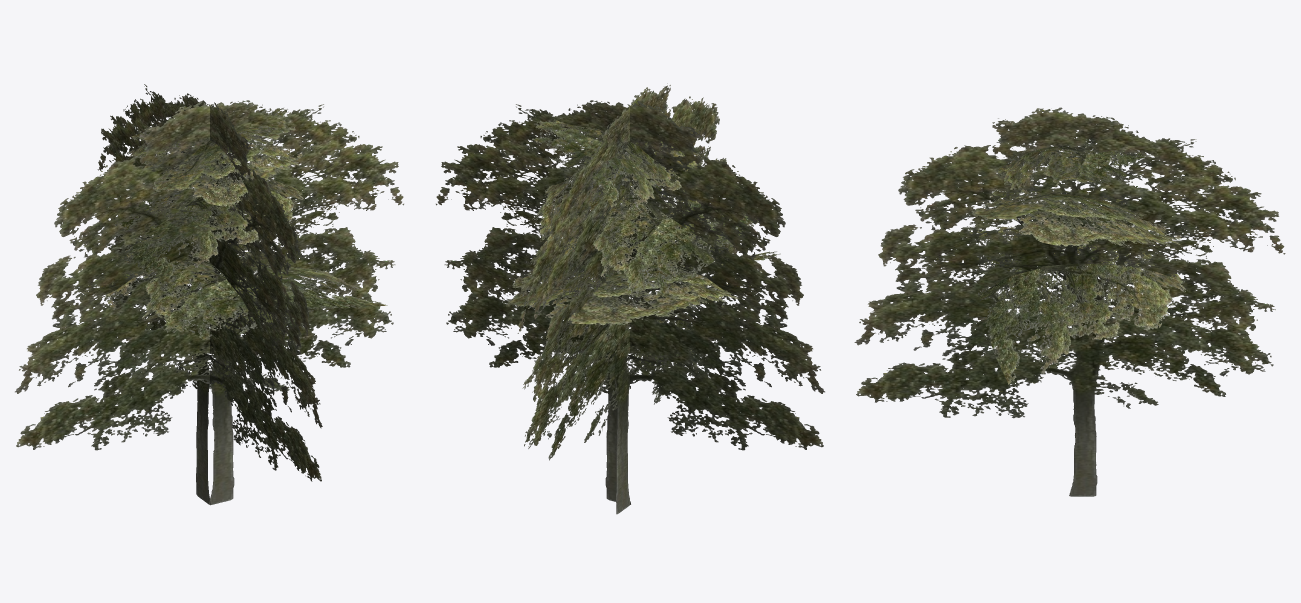
The model's file is tree-light-green-canopy.glb.
The picture shows the model from 3 angles, left to right: view 1: azimuth 30°, elevation 25°; view 2: azimuth 150°, elevation 25°; view 3: azimuth 270°, elevation 25°; orthographic projection. The views are drawn at different scales.
Visible parts, largest first — view 1: tree-light-green-canopy; view 2: tree-light-green-canopy; view 3: tree-light-green-canopy.
Part boxes in pixels (left/top/right/bottom): tree-light-green-canopy: left=15, top=84, right=403, bottom=505; tree-light-green-canopy: left=436, top=83, right=824, bottom=514; tree-light-green-canopy: left=854, top=107, right=1285, bottom=496.
Size of the model in its own units: 7 by 7 by 7.
Materials: 1 (1 with a texture image).
